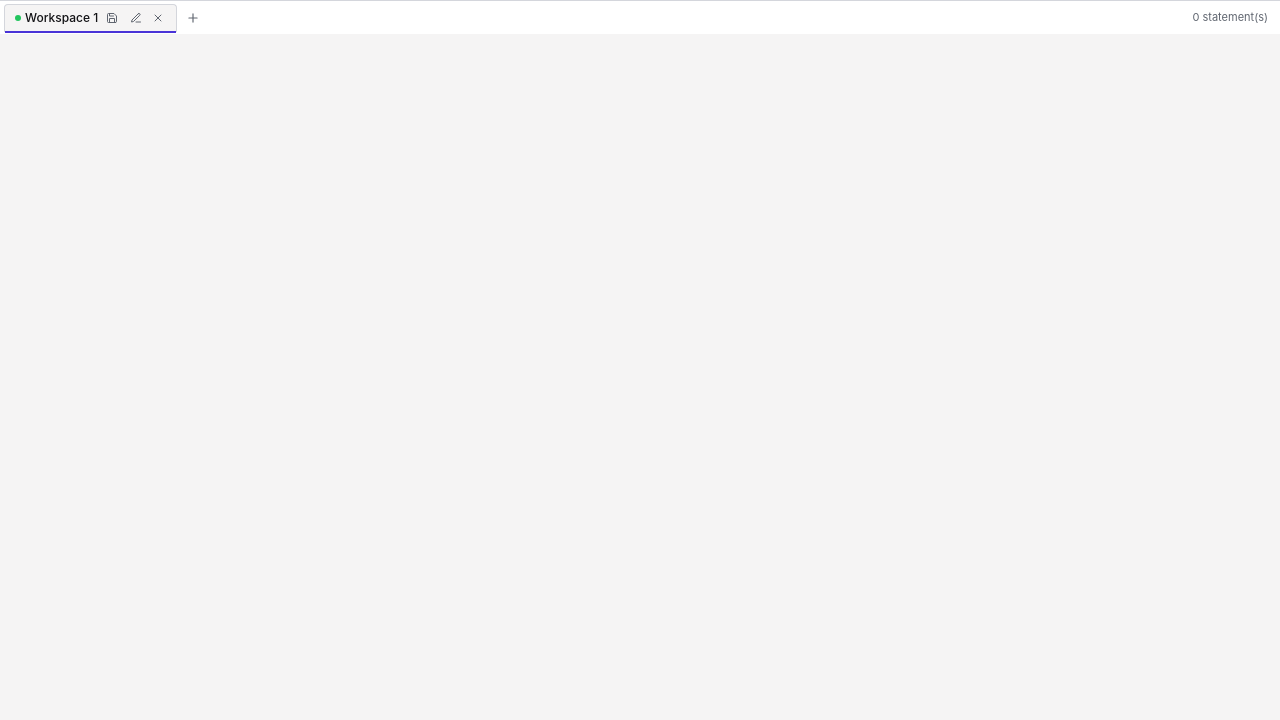
[@tab-bar] TabBar › shows warning dialog for tab with live background streams
Click the button named "Close Workspace 1".
click(158, 18)  # box [150,10,166,26]
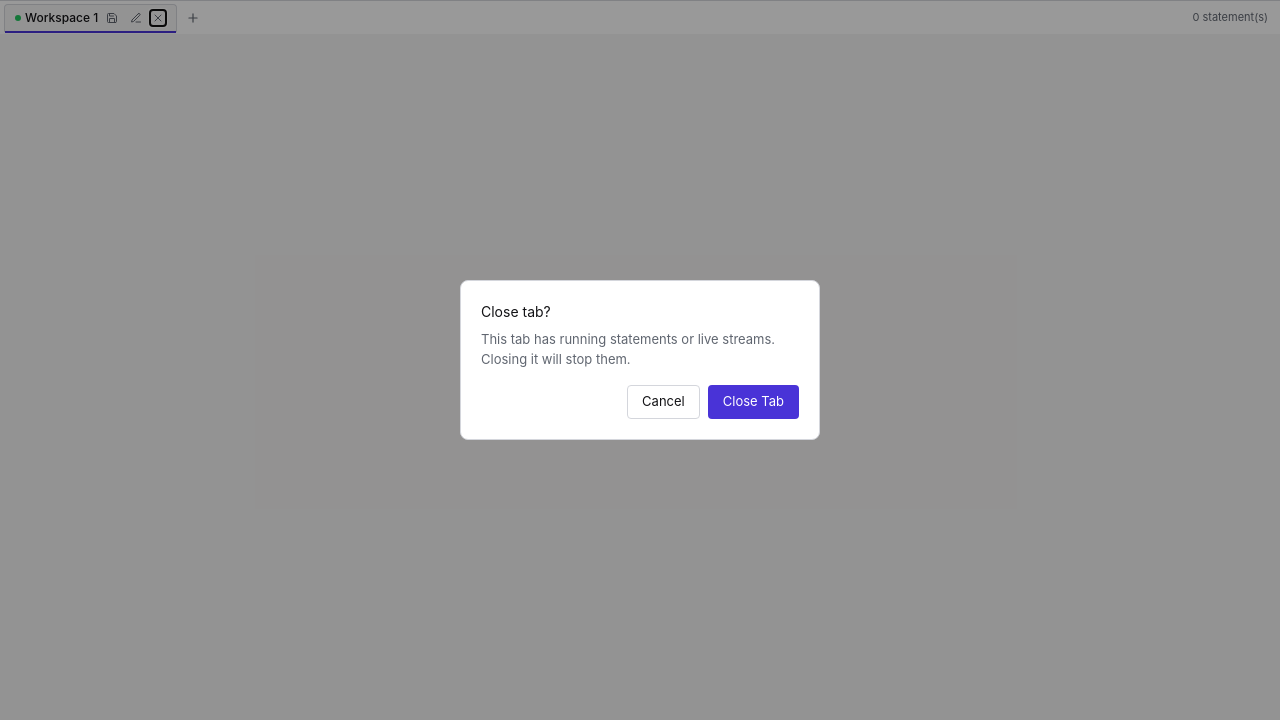
Check: the heading "Close tab?" is shown, box [481,303,551,320]
